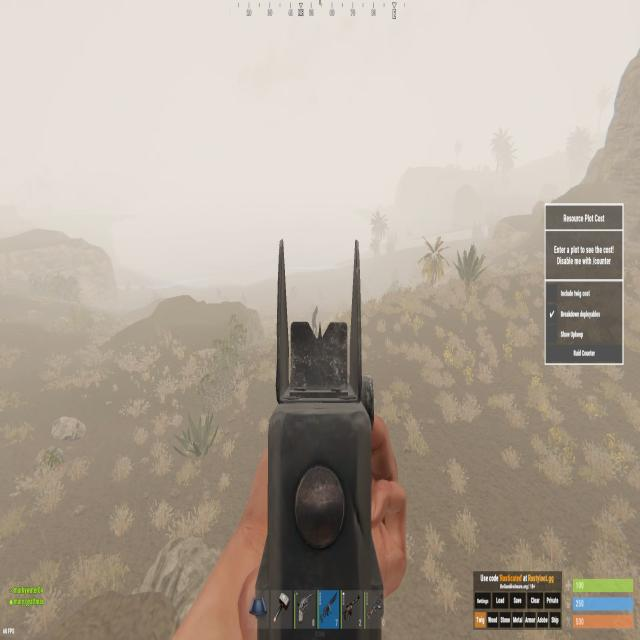Player: (310, 303, 320, 336)
